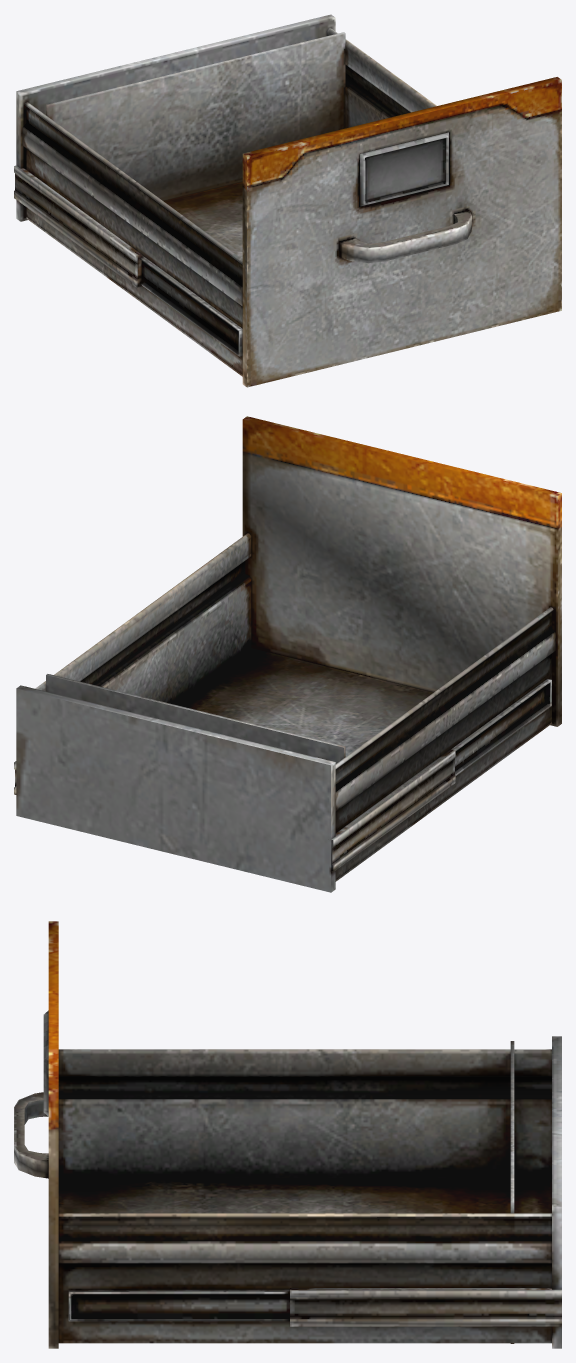
Rendered from file_cabinet_theta_large_drawer.DAE.
3 views of the same model, one above another, from view 1: azimuth 30°, elevation 25°; view 2: azimuth 150°, elevation 25°; view 3: azimuth 270°, elevation 25° (orthographic). The views are drawn at different scales.
Visible parts, largest first — view 1: file_cabinet_theta_large_drawer; view 2: file_cabinet_theta_large_drawer; view 3: file_cabinet_theta_large_drawer.
Part boxes in pixels (x1,y1,x2,y2): file_cabinet_theta_large_drawer: [14, 14, 561, 387]; file_cabinet_theta_large_drawer: [14, 416, 561, 892]; file_cabinet_theta_large_drawer: [14, 921, 561, 1348].
Bounding box in the file's own units: 0.503 × 0.3473 × 0.6728.
